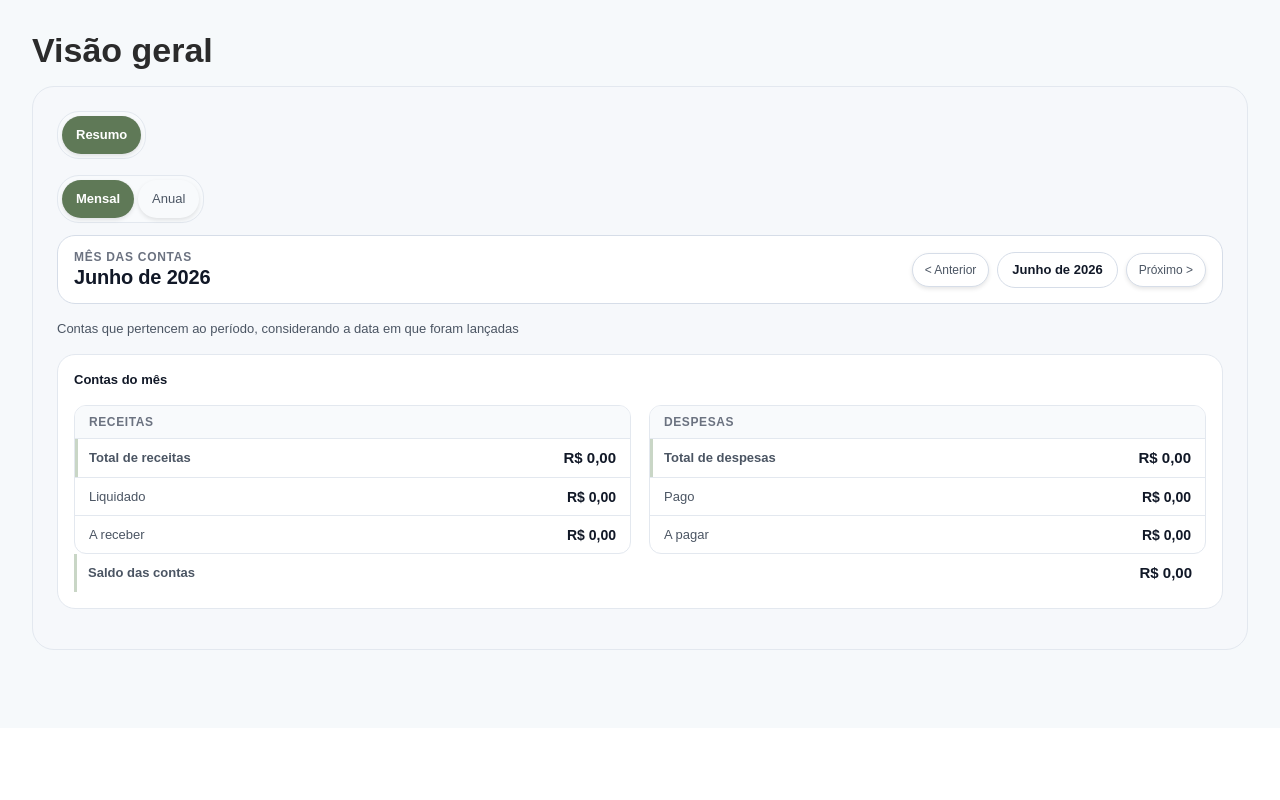
Test: Financeiro - detalhe de receitas por paciente › apresenta erro de consulta anual sem transformá-lo em ausência ou zero
The image size is (1280, 800).
expect the heading "Contas do mês" is shown: met, box [74,371,167,389]
Click the button "Anual": (169, 199) [138,180,199,218]
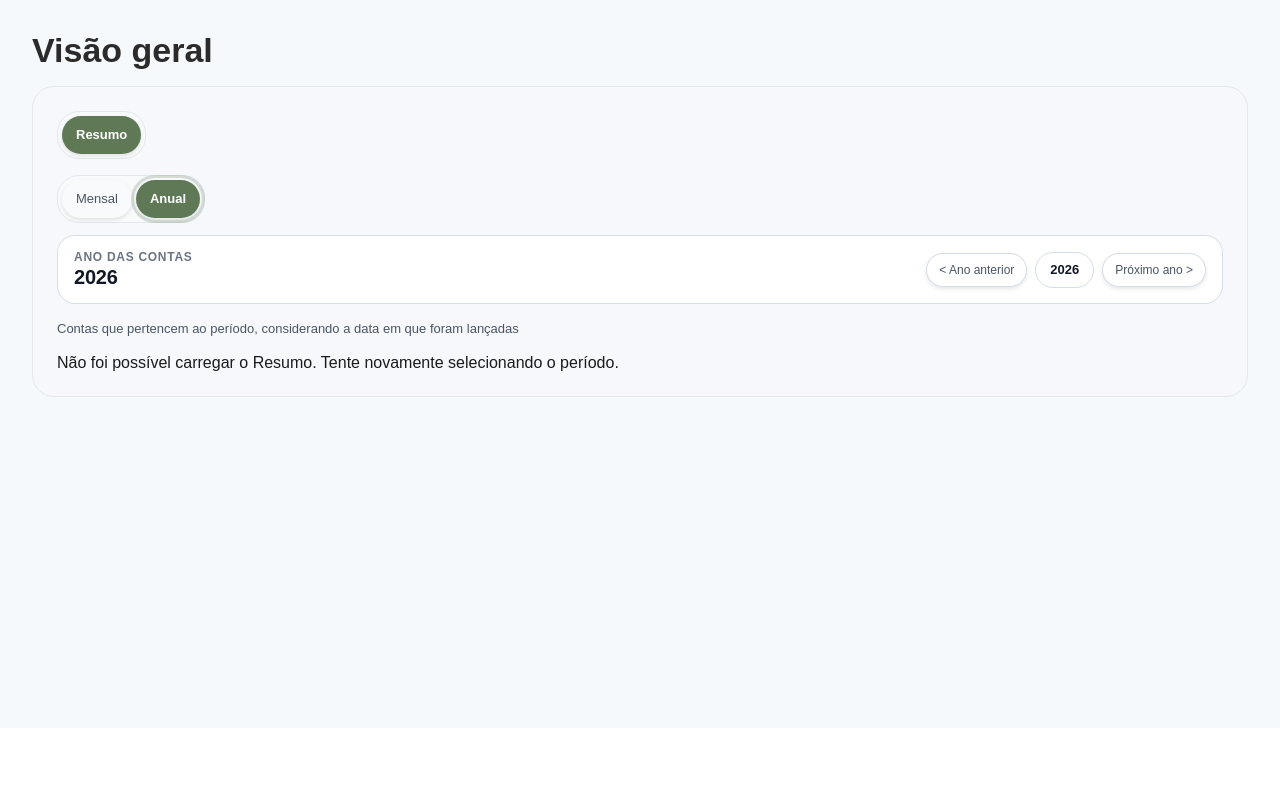
expect the message shows "Não foi possível carregar": met, box [57,354,619,371]
